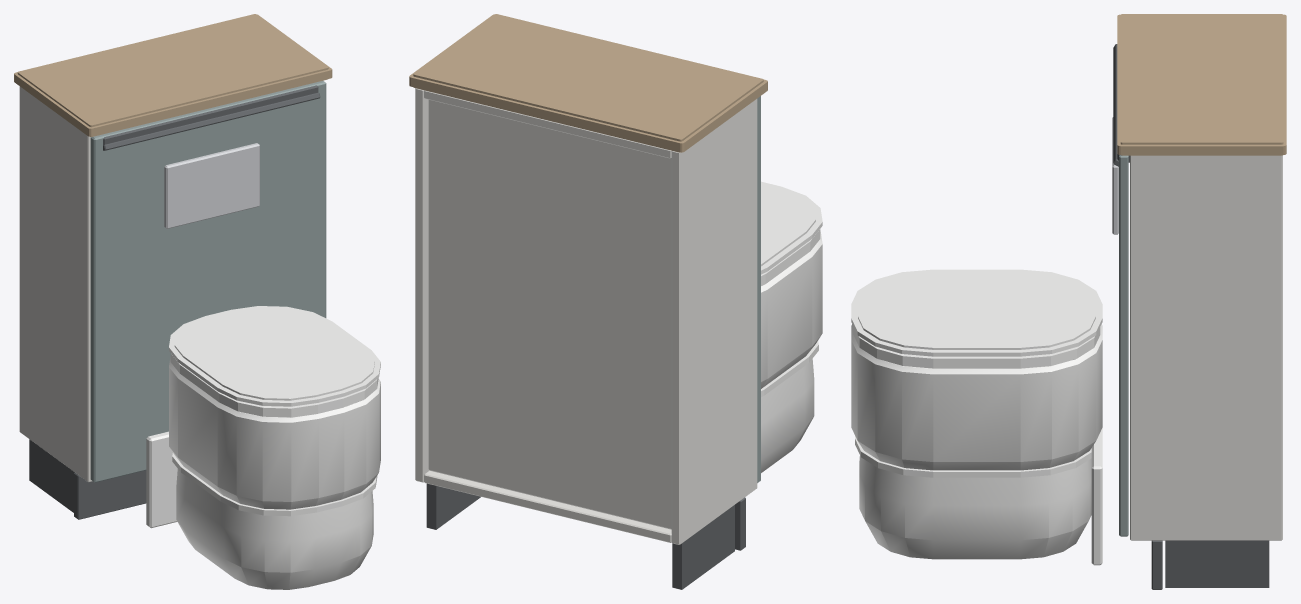
File: fitted-kitchen-and-bathroom-builder-wc-unit-60520db4__17888.glb
The picture shows the model from 3 angles, left to right: view 1: azimuth 30°, elevation 25°; view 2: azimuth 150°, elevation 25°; view 3: azimuth 270°, elevation 25°; orthographic projection. The views are drawn at different scales.
Visible parts, largest first — view 1: wc-unit, door-left/front, lid, door-left/dark, seat; view 2: wc-unit, lid, door-left/front, seat; view 3: wc-unit, lid, door-left/front, seat, door-left/dark.
Boxes of the visible parts, x1,y1,x2,y2 form: wc-unit: (14,14,380,589); door-left/front: (90,81,326,482); lid: (169,306,380,406); door-left/dark: (103,85,320,150); seat: (170,353,378,417); wc-unit: (409,14,822,589); lid: (761,181,822,274); door-left/front: (757,96,760,482); seat: (761,229,820,285); wc-unit: (851,14,1286,589); lid: (851,269,1102,356); door-left/front: (1119,155,1128,536); seat: (853,327,1100,368); door-left/dark: (1113,44,1129,166).
Size of the model in its own units: 0.57 by 0.906 by 0.797.
